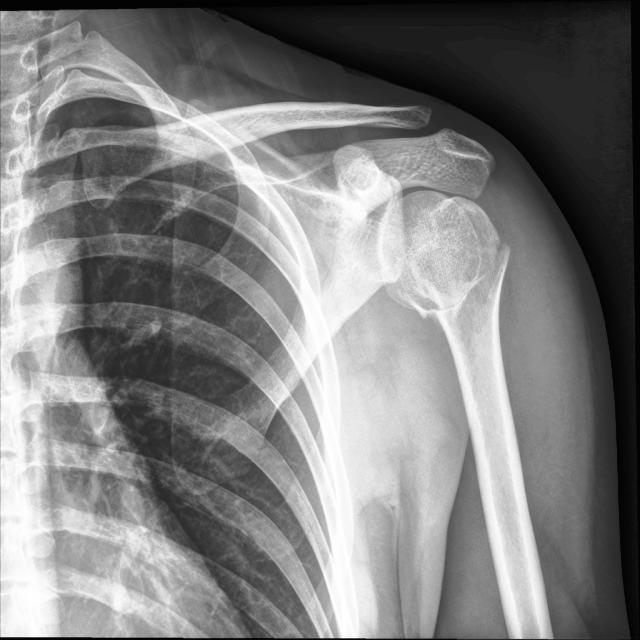Fracture Dislocation: (405, 101, 511, 234)
